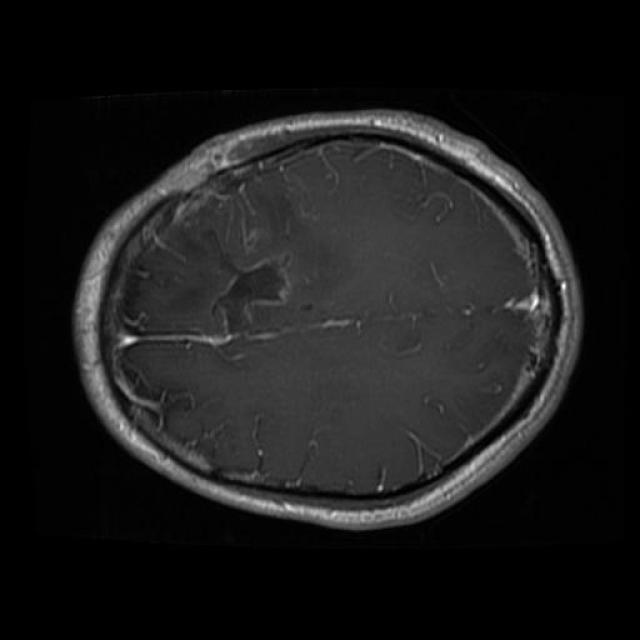Glioma: (214, 263, 286, 331)
